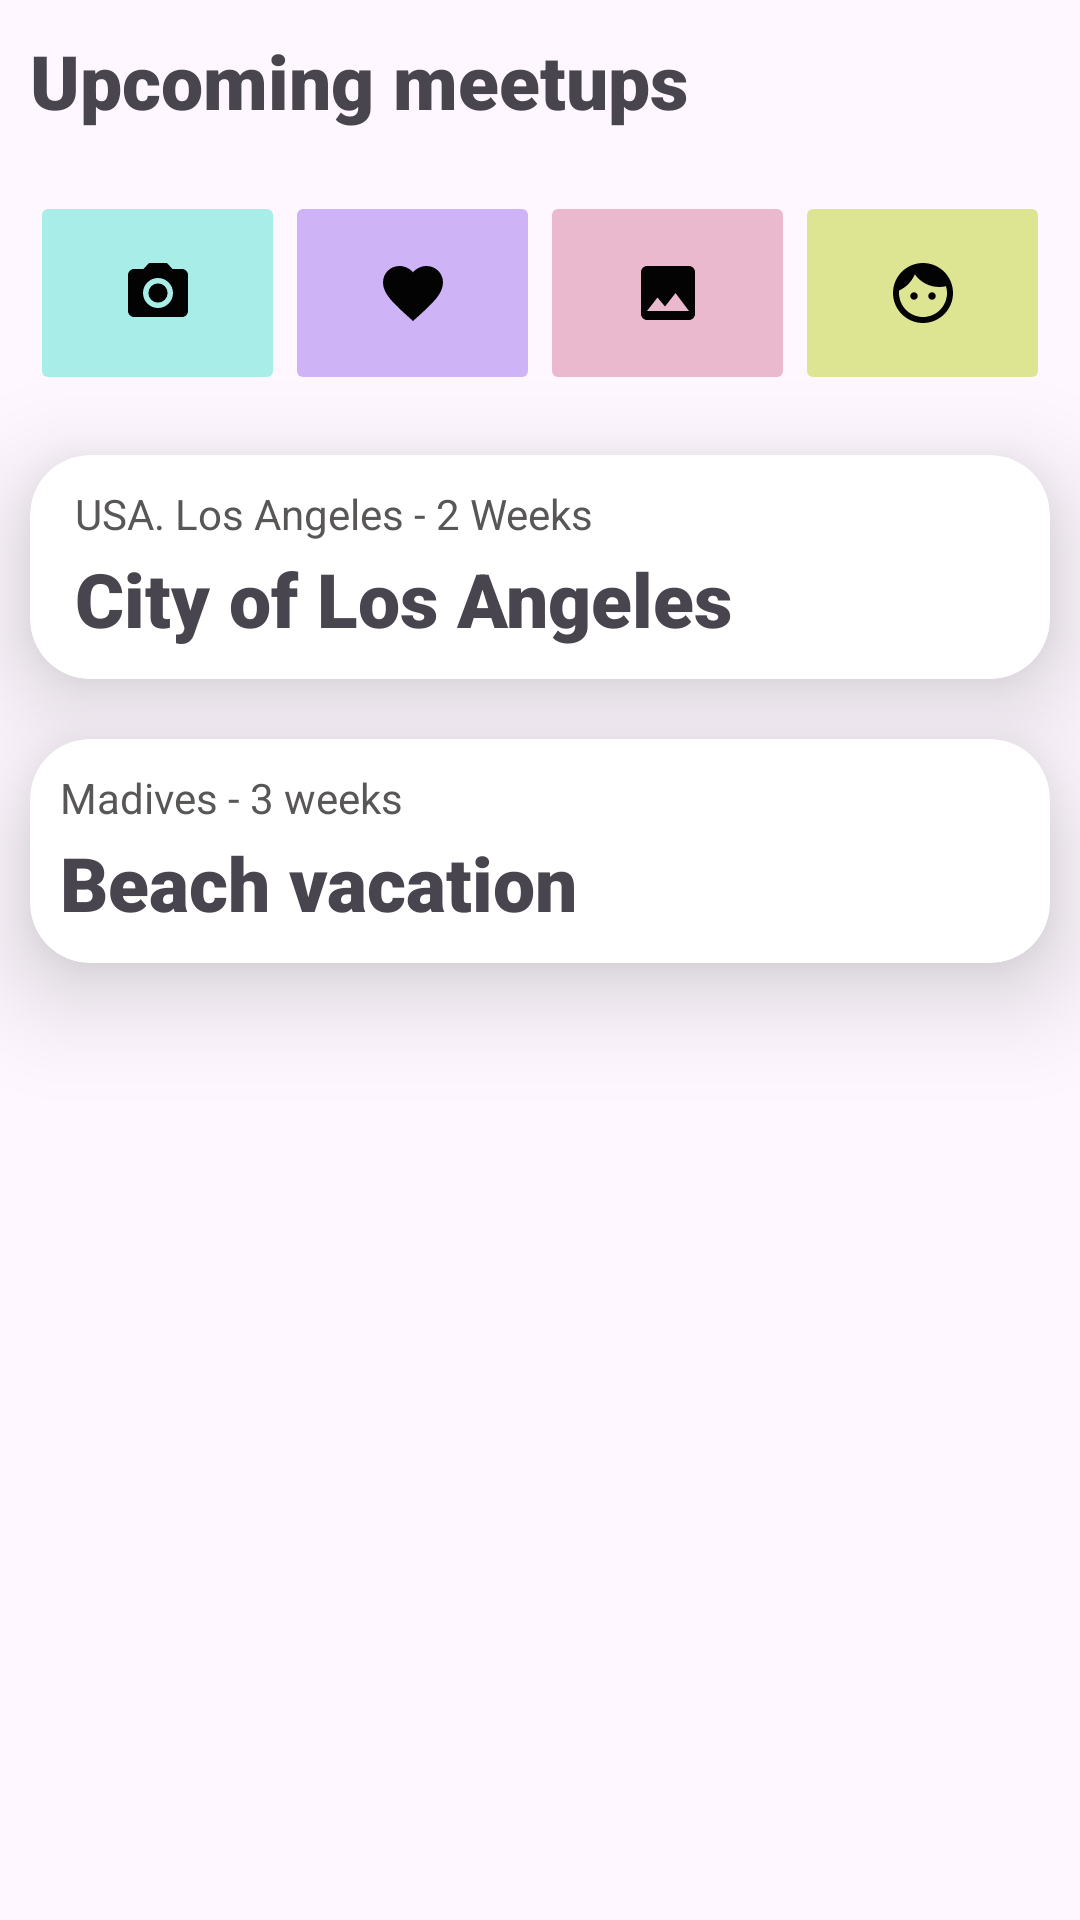

Point at icon controls on the screen. Image size 1080w x 1920h, points as [x,y].
camara: [157,293]
galeria: [667,293]
like: [412,293]
usuario: [922,293]
